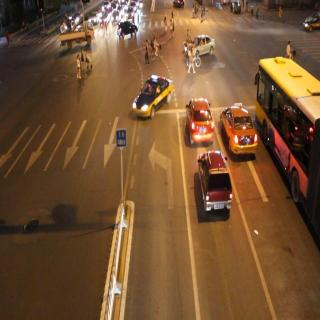BigCar: (253, 46, 320, 253)
Car: (196, 147, 238, 223), (176, 85, 219, 144), (219, 103, 259, 159), (136, 76, 172, 127), (182, 29, 220, 65), (60, 18, 97, 52), (120, 17, 142, 42), (305, 3, 320, 33), (170, 0, 189, 9), (231, 2, 242, 16)
